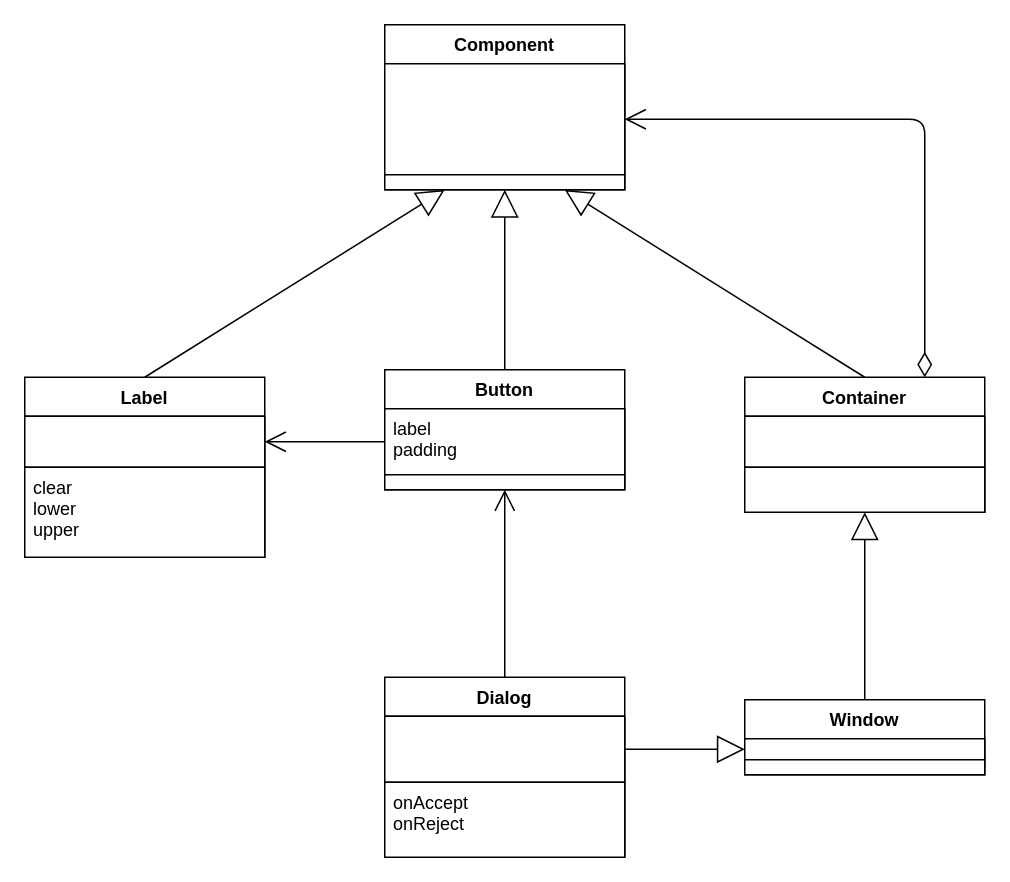
Some shapes in this 1010 by 882 pixel diagram are drawn without their labels. The centre of each missing label's shape, as x and y in pixels:
"acceptButton rejectButton" goes at (x=504, y=748).
"addChild" goes at (x=864, y=489).
"children" goes at (x=864, y=441).
"text" goes at (x=144, y=441).
"x y width height" goes at (x=504, y=118).
